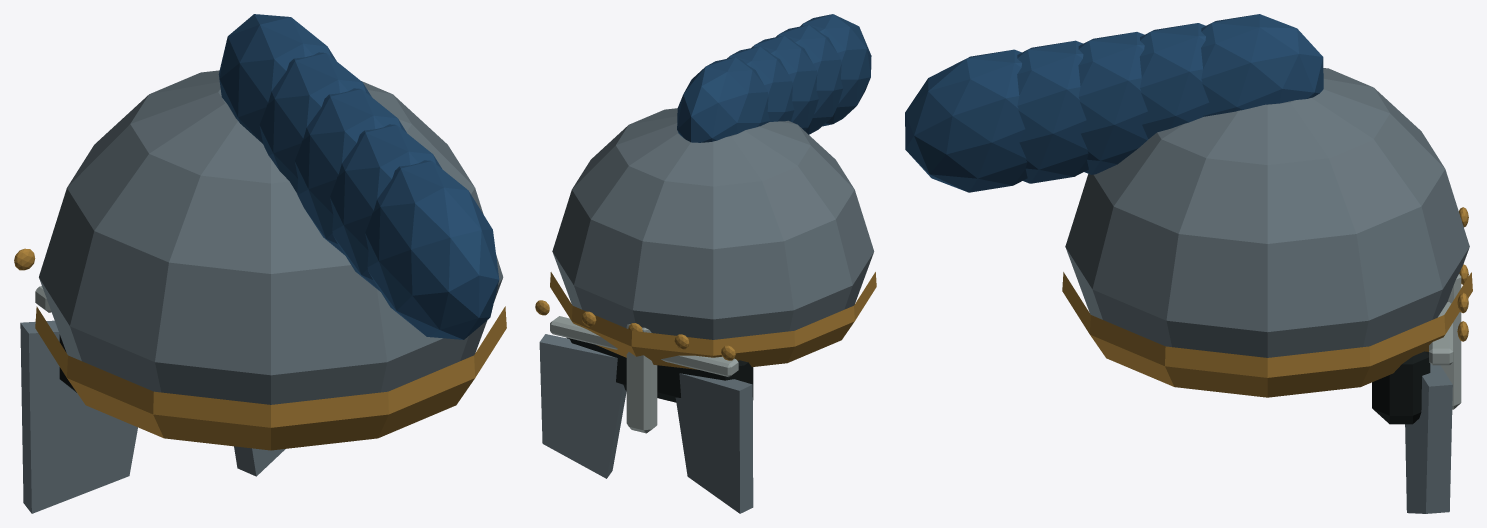
Rendered from Head.glb.
3 renders of one model, left to right at view 1: azimuth 30°, elevation 25°; view 2: azimuth 150°, elevation 25°; view 3: azimuth 270°, elevation 25°, orthographic. The views are drawn at different scales.
Visible parts, largest first — view 1: Sculpture; view 2: Sculpture; view 3: Sculpture.
Part boxes in pixels (x1,y1,x2,y2): Sculpture: (14, 14, 506, 513); Sculpture: (535, 14, 876, 513); Sculpture: (905, 14, 1472, 513).
Bounding box in the file's own units: 0.67 × 0.8371 × 0.9265.
